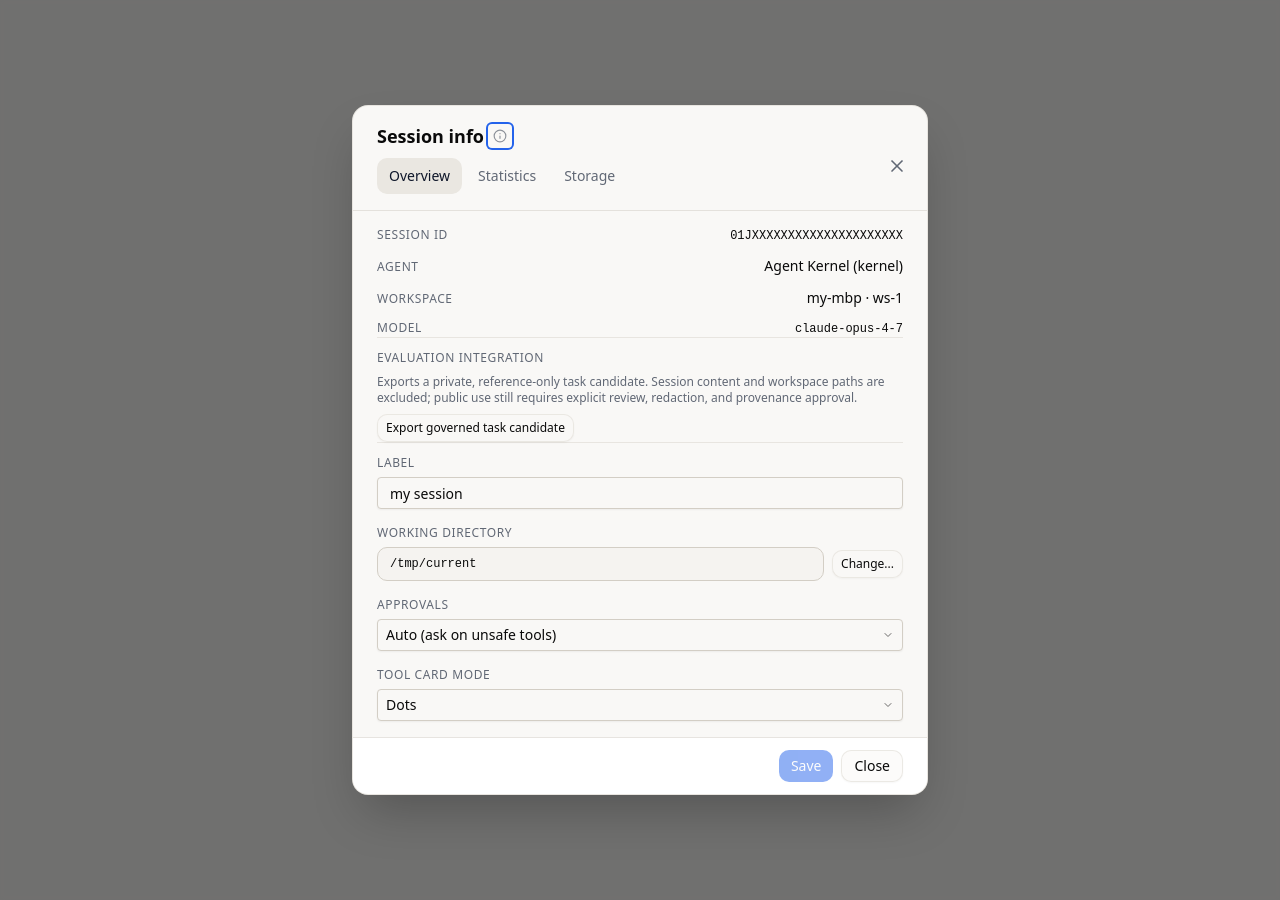
it: SessionMetadataDialog › renders read-only summary fields
Check: the dialog with test id "session-metadata-dialog" shows "01JXXXXXXXXXXXXXXXXXXXXX", box 730,229 -> 903,243
Check: the dialog with test id "session-metadata-dialog" shows "my-mbp", box 807,288 -> 903,307
Click the tab with test id "session-info-statistics-tab": [507, 176] box 466,158 -> 548,194
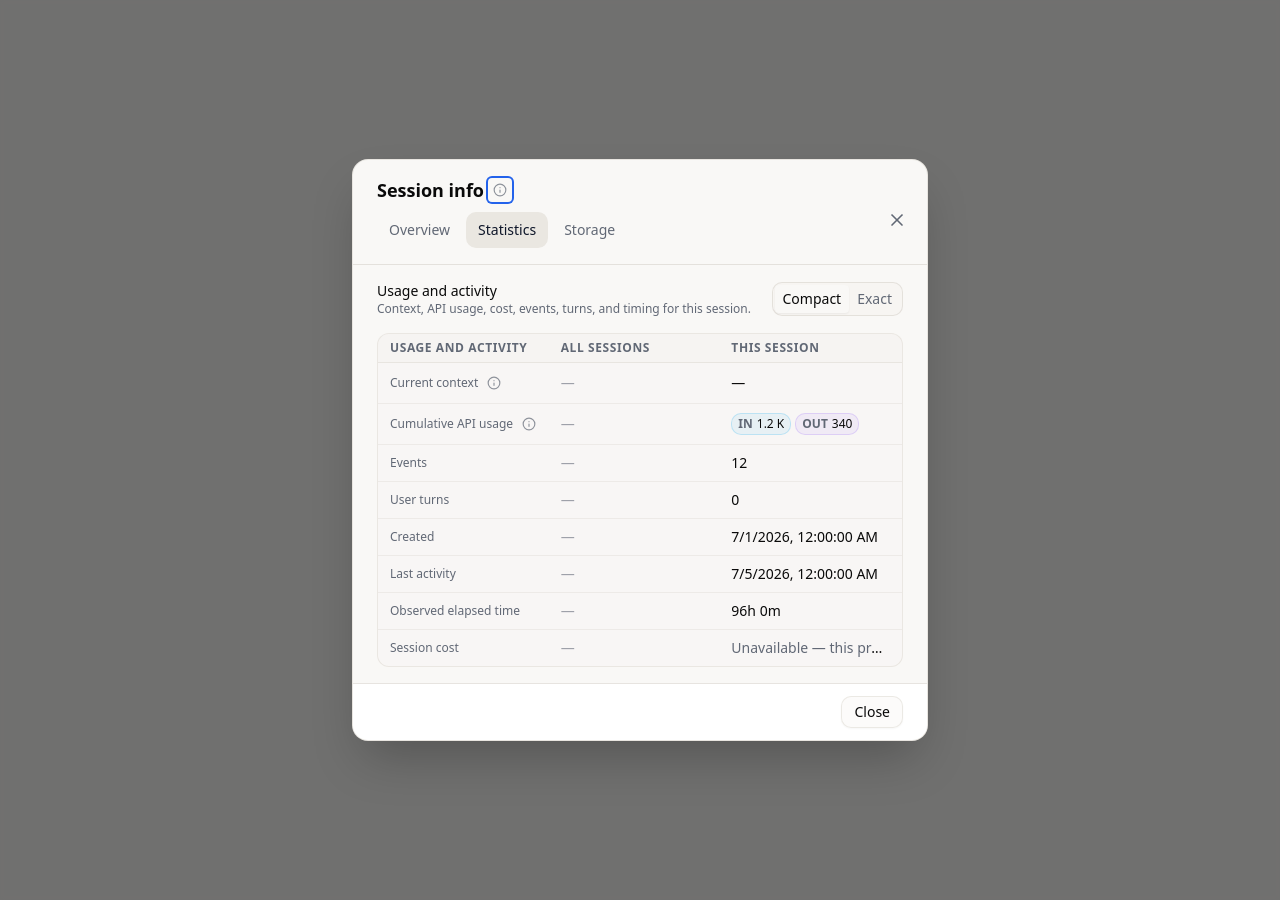
Check: the element with test id "session-statistics" shows "1.2 K", box 757,415 -> 784,432
